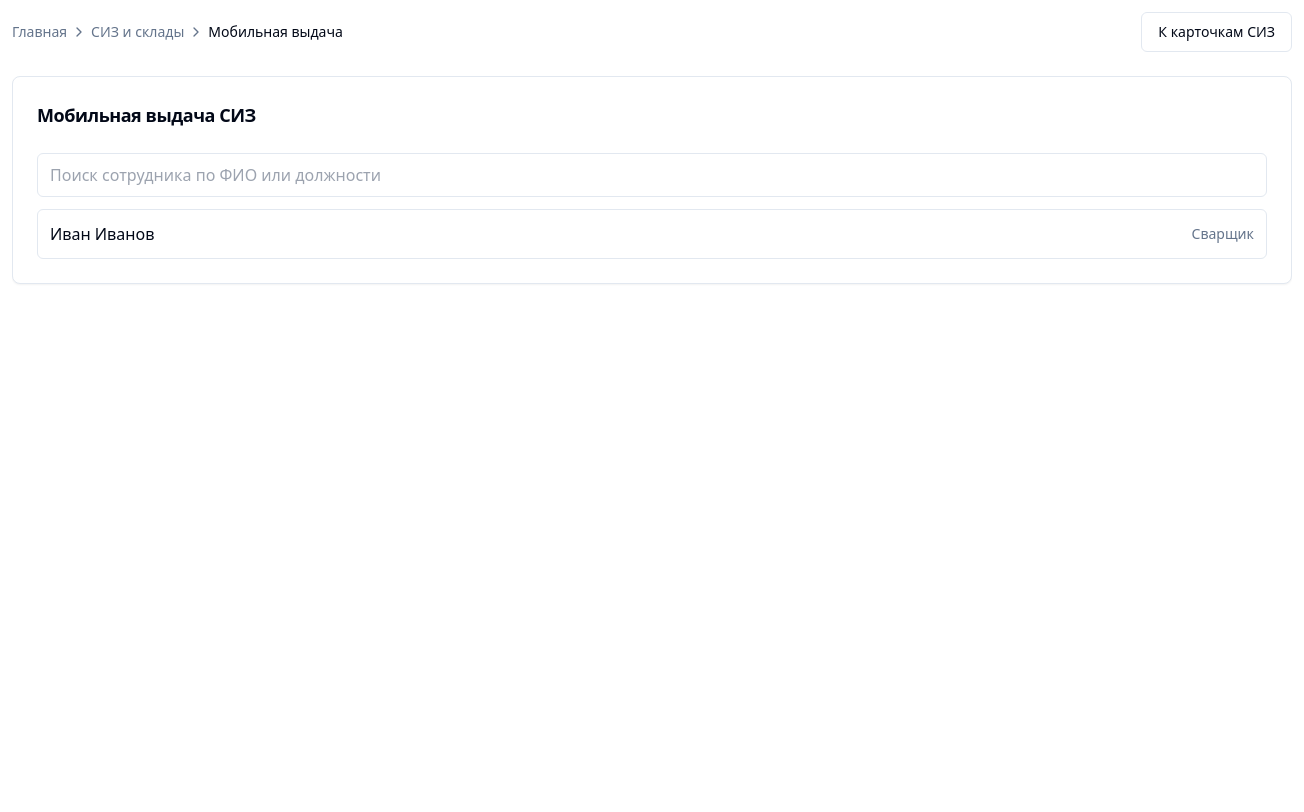
Test: MobileIssuePage — items & cart › adds items to the cart and merges duplicates
This screenshot has width=1304, height=812.
Click the text "Иван Иванов" at (102, 234), box [50, 222, 154, 246]
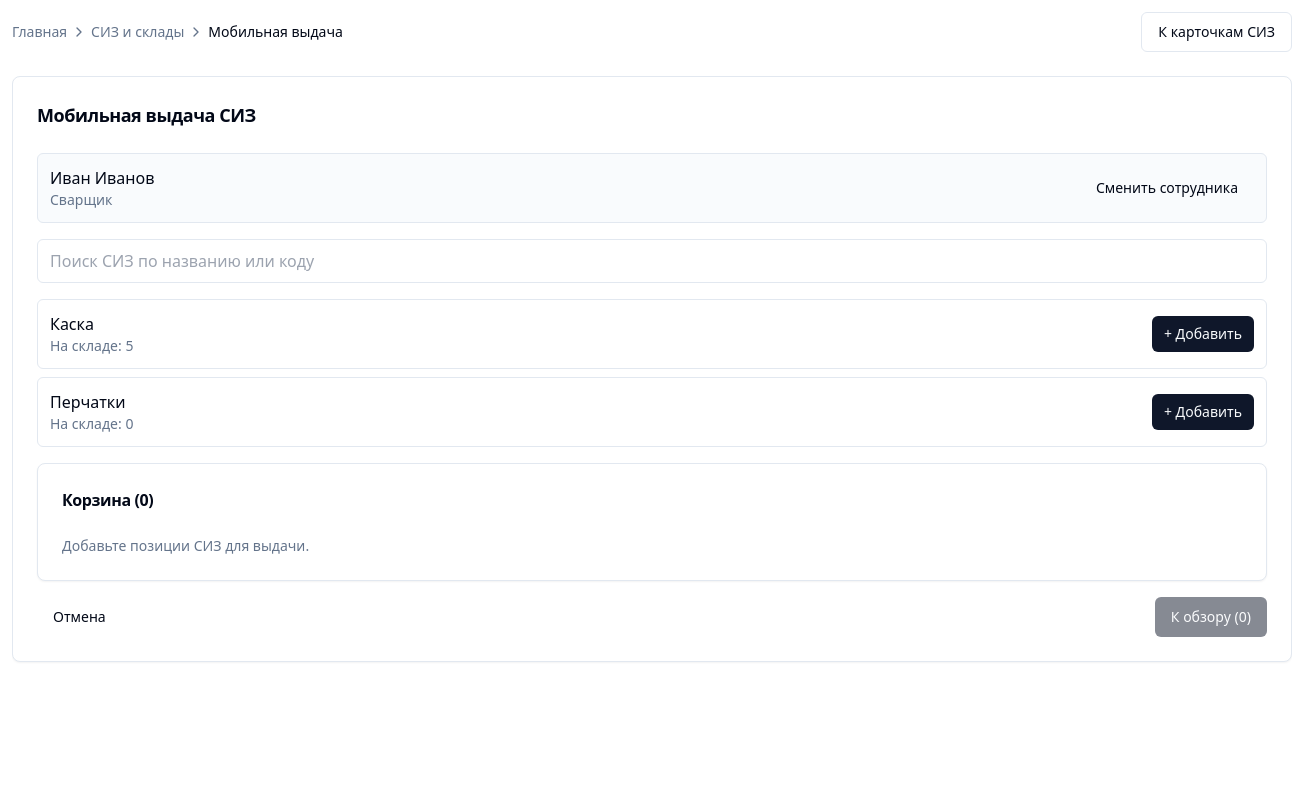
Now the search field labelled "Поиск СИЗ" is shown, box [37, 239, 1267, 283]
Click the button "+ Добавить" in the row of "Каска" at (1203, 334), box [1152, 316, 1254, 352]
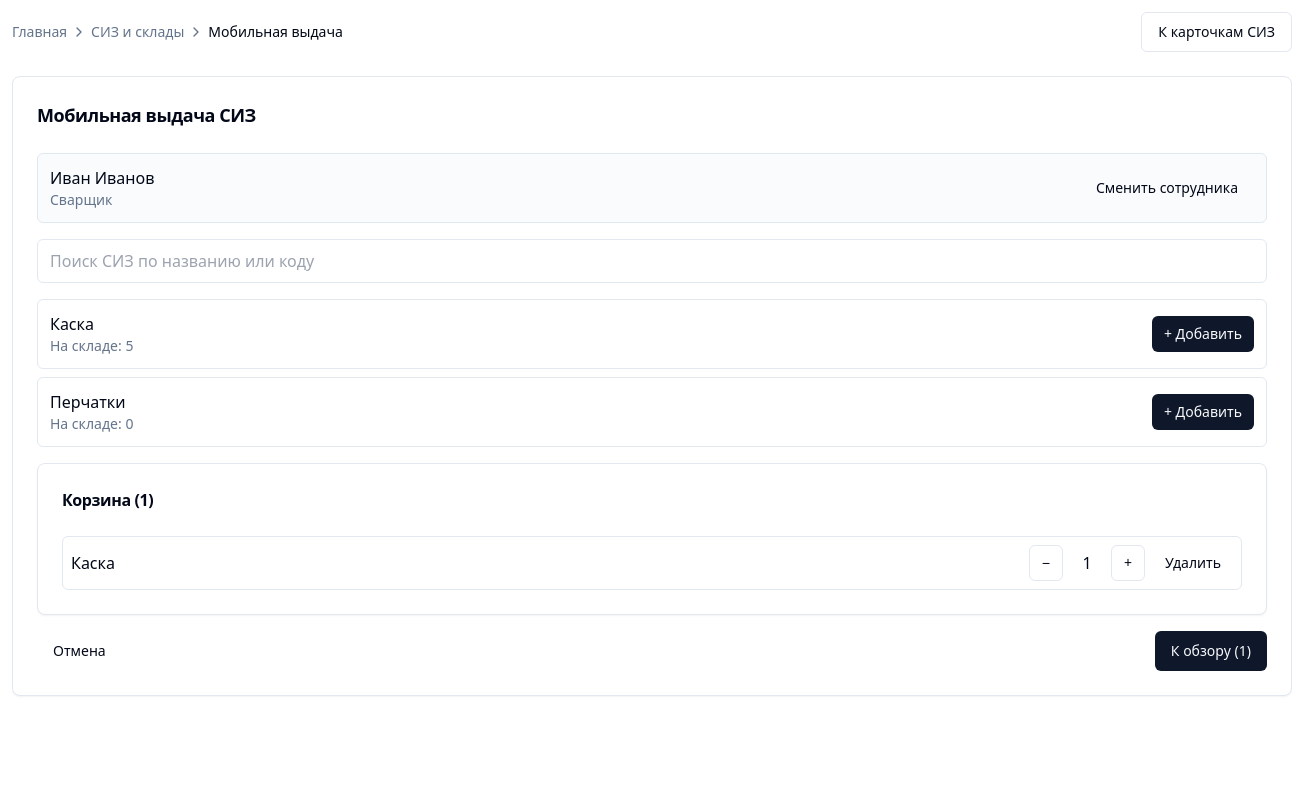
Now the heading "Корзина (1)" is shown, box [62, 489, 153, 511]
Click the 1st button "+ Добавить" at (1203, 334), box [1152, 316, 1254, 352]
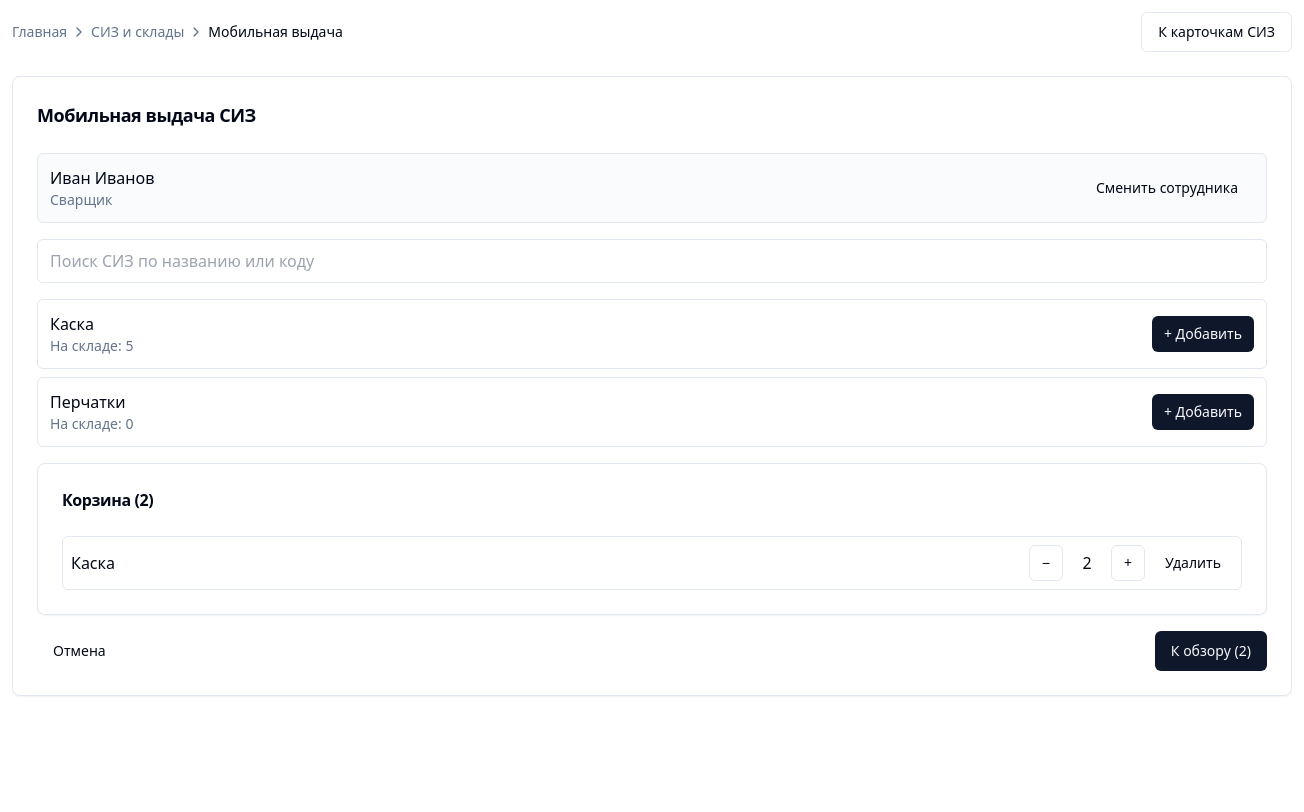
Now the heading "Корзина (2)" is shown, box [62, 489, 153, 511]
Now the text named "Количество Каска" reads "2", box [1082, 552, 1092, 574]
